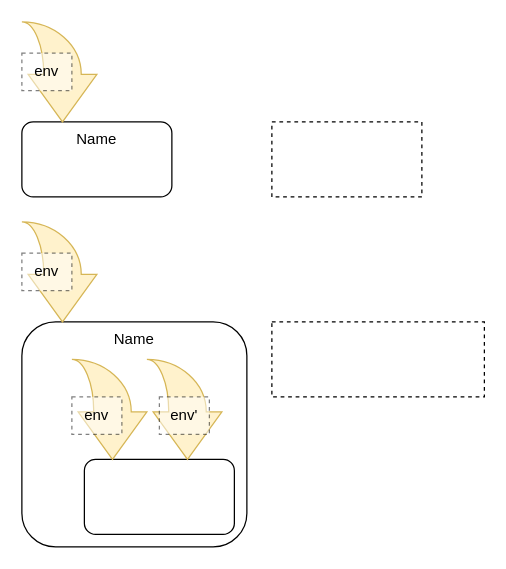
This 506x569 diagram has some shape labels left out. Here are the shapes that lost their labels. From the top down, the centre of each, then its label:
At point (346, 159): "NameList = Name".
At point (377, 359): "NameList = Name NameList".
At point (158, 496): "NameList".
